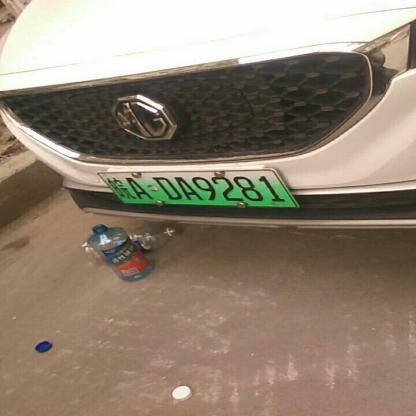lp: (98, 168, 297, 206)
